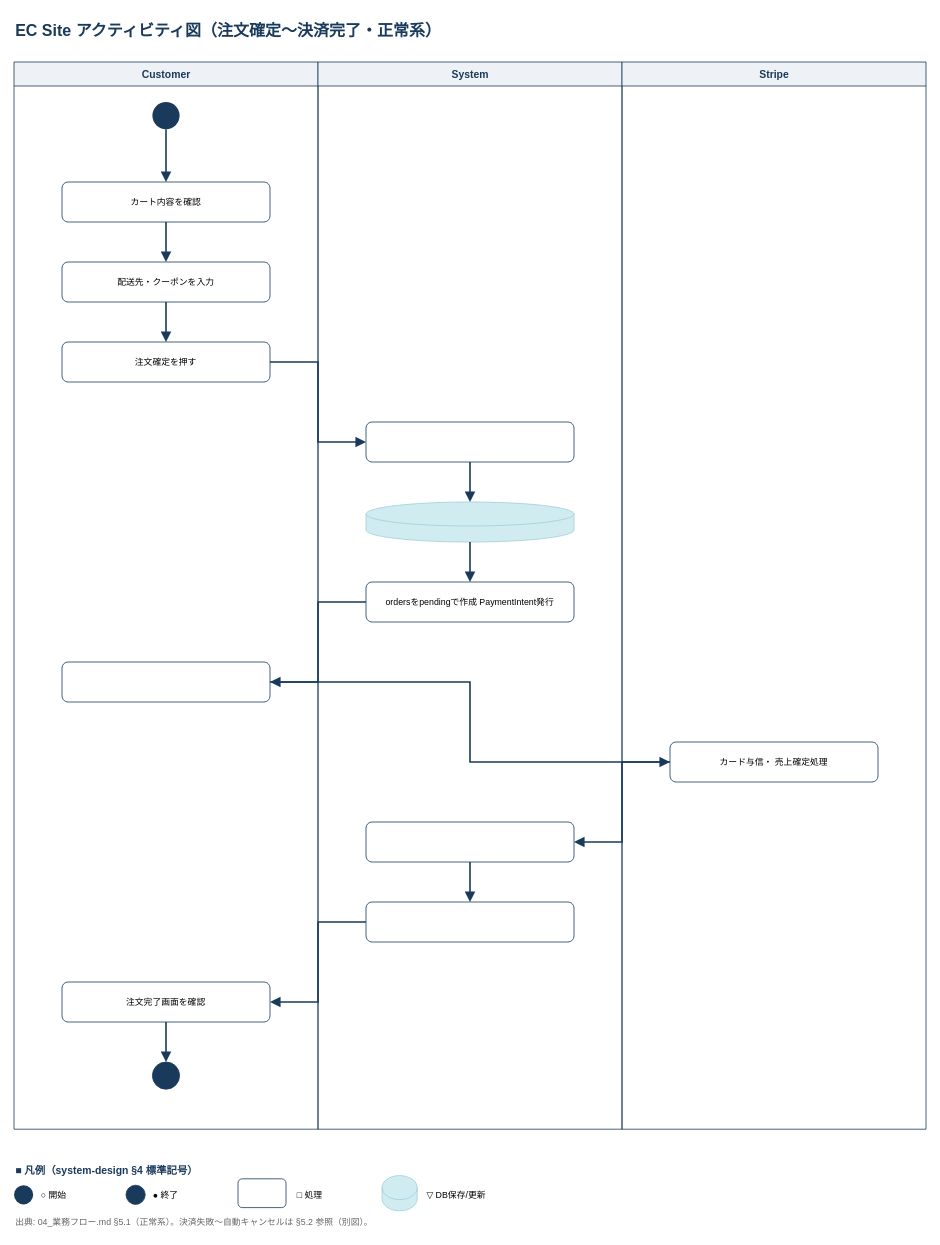
Image size: 940x1245. Some labels were removed from this diagram. The shapes that lost their labels are listed below. From the top down, each one's centre as x and y in pixels, then its label:
the point at 469,441: 在庫を確保（reserve） BR-INV-003
the point at 469,521: order_itemsへ価格・税率を スナップショット
the point at 165,681: カード情報を入力し 決済実行
the point at 469,841: Webhook受信
the point at 469,921: ordersをpaidに更新 在庫を引き当て確定（commit） BR-INV-004
